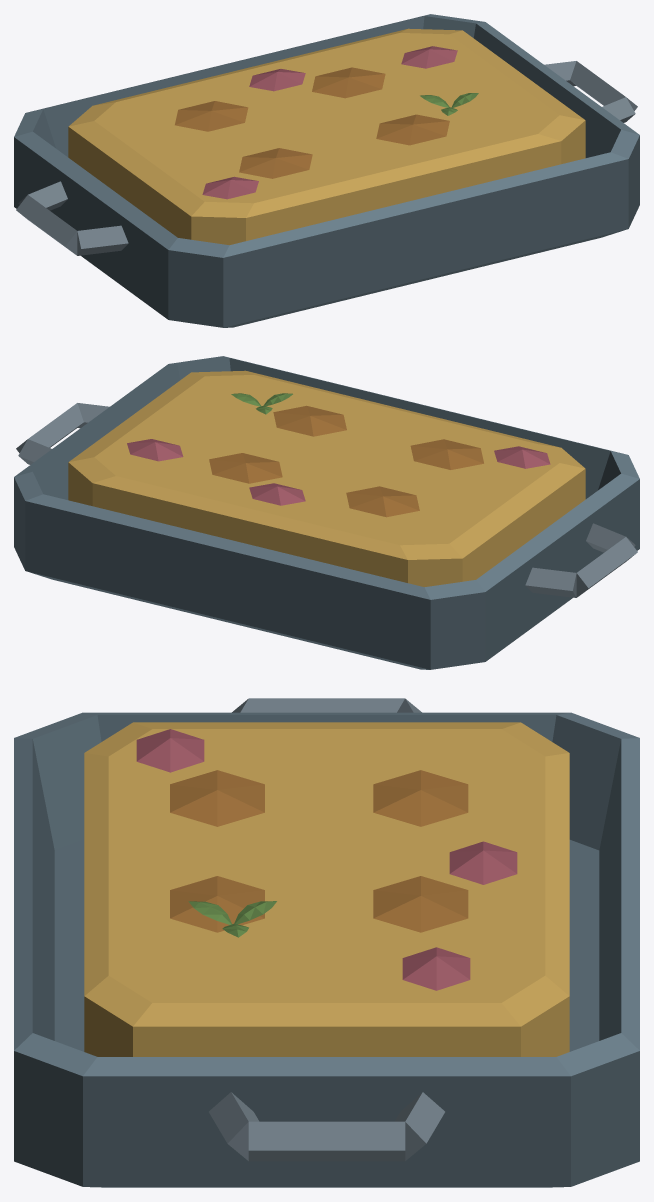
File: gratin_sweet_potato.glb
3 renders of one model, top to bottom at view 1: azimuth 30°, elevation 25°; view 2: azimuth 150°, elevation 25°; view 3: azimuth 270°, elevation 25°, orthographic. The views are drawn at different scales.
Visible parts, largest first — view 1: food; view 2: food; view 3: food.
Boxes of the visible parts, x1,y1,x2,y2 form: food: (14,14,639,327); food: (14,356,639,669); food: (14,698,639,1187).
Bounding box in the file's own units: 0.668 × 0.1288 × 0.4.
